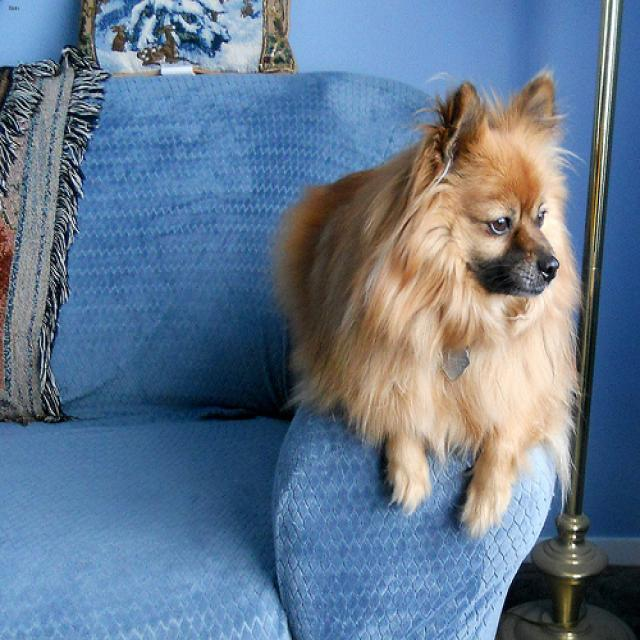dog-pomeranian: (265, 55, 605, 547)
